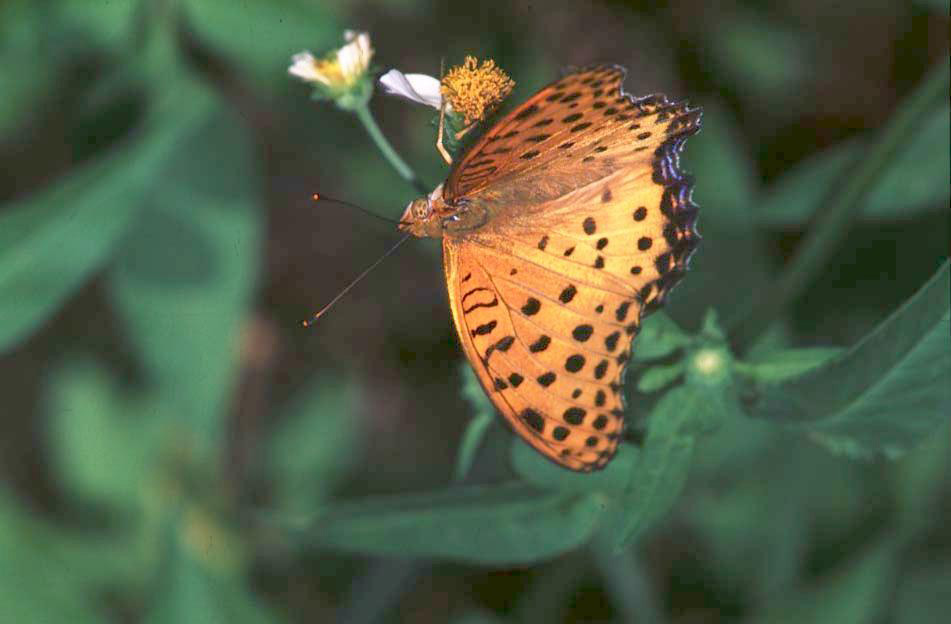Argyreus hyperbius: (298, 56, 705, 478)
butterfly: (300, 58, 707, 480)
